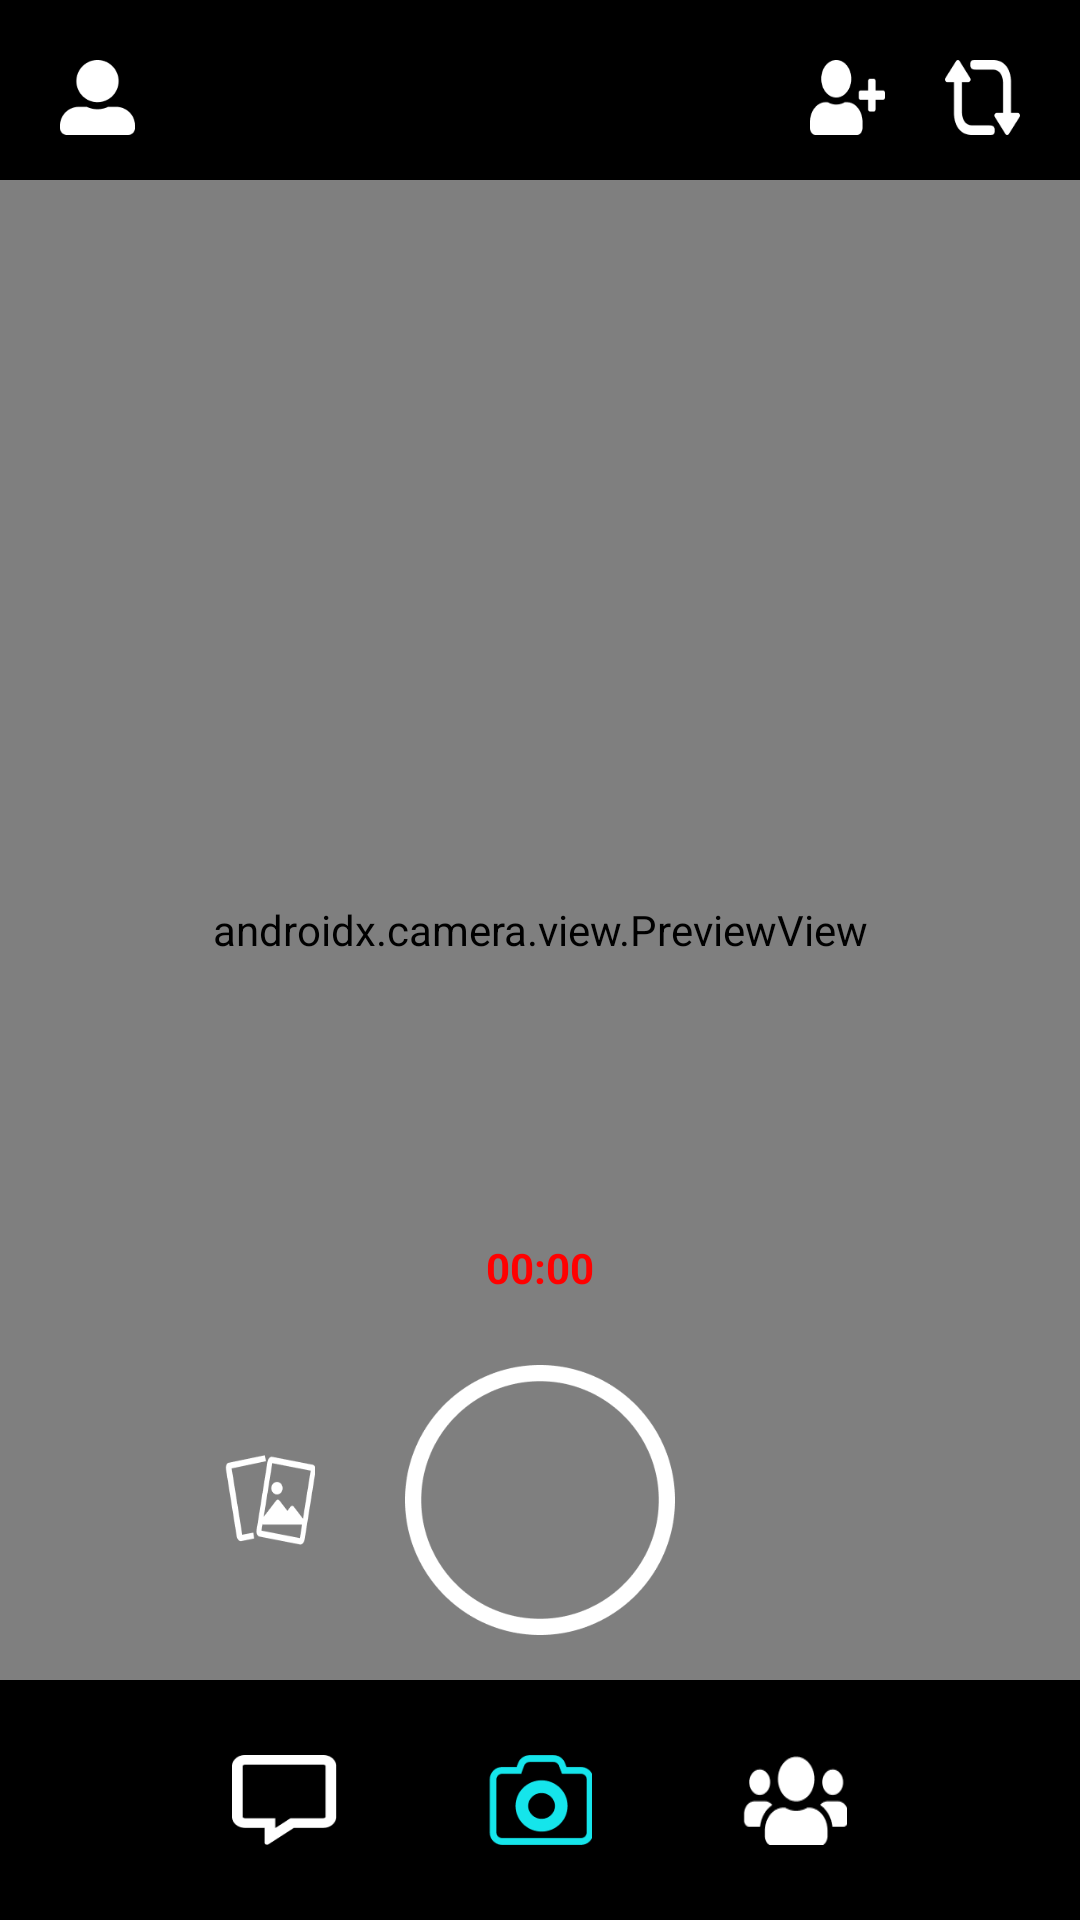

Named icons in this screenshot (1080px×1920px) and their centers, (x,y):
add friend: (847,97)
camera highlighted: (540,1800)
chat: (284,1800)
flip camera: (982,97)
profile: (97,97)
shutter: (540,1500)
stories: (795,1800)
